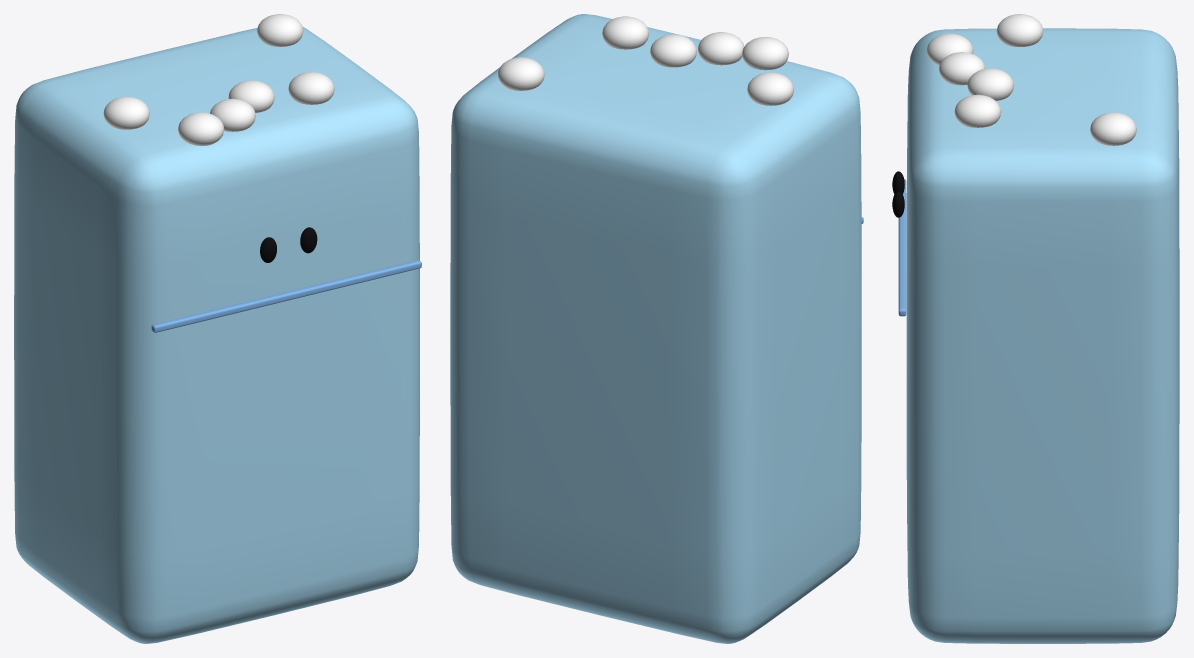
File: Freezer.glb
3 renders of one model, left to right at view 1: azimuth 30°, elevation 25°; view 2: azimuth 150°, elevation 25°; view 3: azimuth 270°, elevation 25°, orthographic.
Visible parts, largest first — view 1: Cube, Cube.001, Sphere, Sphere.002, Sphere.004, Sphere.003, Sphere.001, Sphere.005; view 2: Cube, Sphere.003, Sphere.002, Sphere.004, Sphere.005, Sphere, Sphere.001; view 3: Cube, Sphere.003, Sphere.004, Sphere.002, Sphere.005, Sphere.001, Cube.001, Sphere.
Boxes of the visible parts, left/top/right/bottom form: Cube: left=14, top=27, right=419, bottom=643; Cube.001: left=151, top=260, right=421, bottom=332; Sphere: left=178, top=112, right=224, bottom=145; Sphere.002: left=103, top=96, right=149, bottom=129; Sphere.004: left=288, top=72, right=334, bottom=104; Sphere.003: left=257, top=14, right=303, bottom=46; Sphere.001: left=210, top=98, right=255, bottom=131; Sphere.005: left=228, top=80, right=274, bottom=112; Cube: left=450, top=14, right=861, bottom=643; Sphere.003: left=497, top=57, right=544, bottom=90; Sphere.002: left=747, top=72, right=794, bottom=105; Sphere.004: left=602, top=16, right=649, bottom=49; Sphere.005: left=650, top=34, right=696, bottom=67; Sphere: left=742, top=37, right=788, bottom=70; Sphere.001: left=698, top=32, right=744, bottom=65; Cube: left=906, top=28, right=1179, bottom=643; Sphere.003: left=1090, top=112, right=1136, bottom=145; Sphere.004: left=954, top=94, right=1001, bottom=127; Sphere.002: left=996, top=14, right=1043, bottom=46; Sphere.005: left=967, top=68, right=1013, bottom=100; Sphere.001: left=939, top=52, right=985, bottom=85; Cube.001: left=898, top=179, right=906, bottom=316; Sphere: left=926, top=33, right=973, bottom=65.
Bounding box in the file's own units: 0.8991 × 1.46 × 0.7356.
